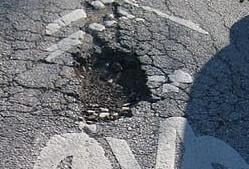alligator-crack: (0, 0, 84, 128), (141, 35, 247, 136), (118, 1, 180, 56)
crack: (205, 0, 249, 67)
pothole: (71, 47, 156, 129)
